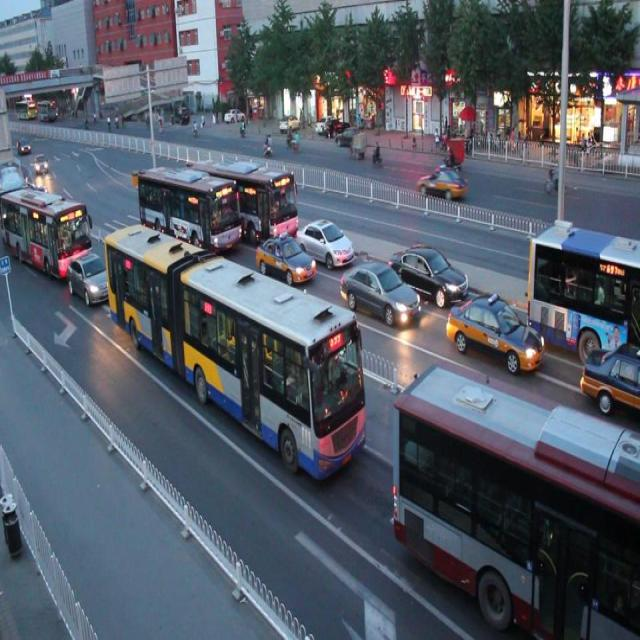car: (446, 294, 544, 382), (337, 258, 416, 331), (390, 243, 468, 309), (578, 336, 640, 417), (253, 230, 314, 289), (294, 214, 352, 273), (67, 253, 116, 306)
van: (102, 218, 366, 482), (392, 364, 640, 640), (526, 224, 640, 359), (136, 160, 240, 262), (191, 153, 298, 248), (1, 182, 90, 272)
